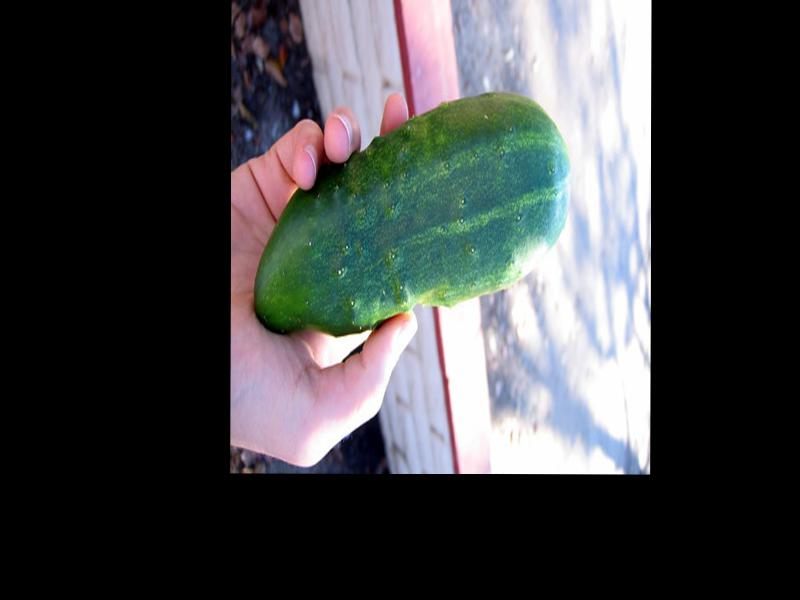Cucumber: (254, 89, 568, 335)
